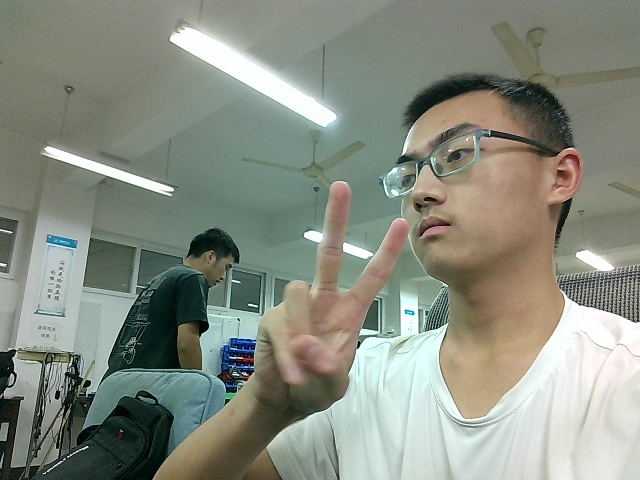scissor: (248, 180, 415, 411)
